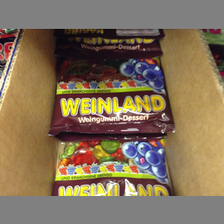candy: (57, 56, 170, 138), (55, 142, 170, 193)
